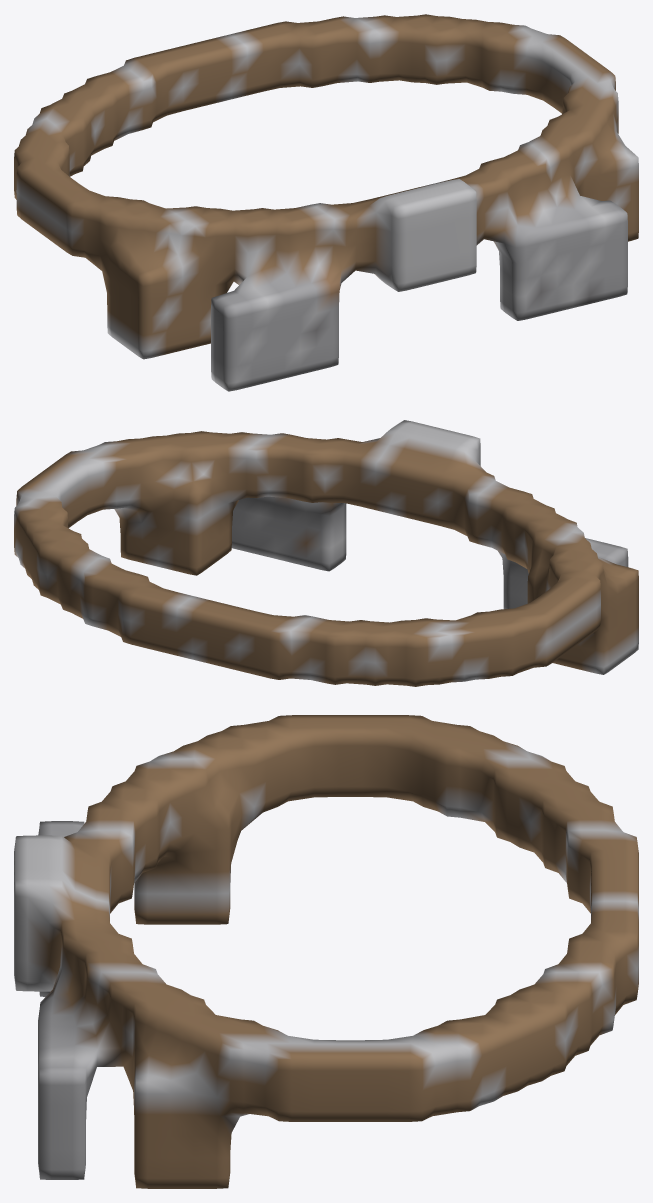
File: plate_common_belt.glb
3 renders of one model, top to bottom at view 1: azimuth 30°, elevation 25°; view 2: azimuth 150°, elevation 25°; view 3: azimuth 270°, elevation 25°, orthographic. The views are drawn at different scales.
Parts seen in each view (by area): view 1: plate_common_belt; view 2: plate_common_belt; view 3: plate_common_belt.
Part boxes in pixels (bbox=[...]): plate_common_belt: bbox=[14, 14, 638, 391]; plate_common_belt: bbox=[14, 420, 638, 686]; plate_common_belt: bbox=[14, 715, 638, 1188].
Bounding box in the file's own units: 0.408 × 0.108 × 0.312.
